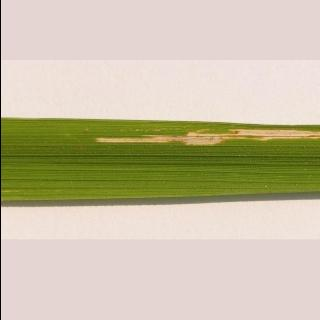Hawar-Daun: (77, 110, 320, 166)
